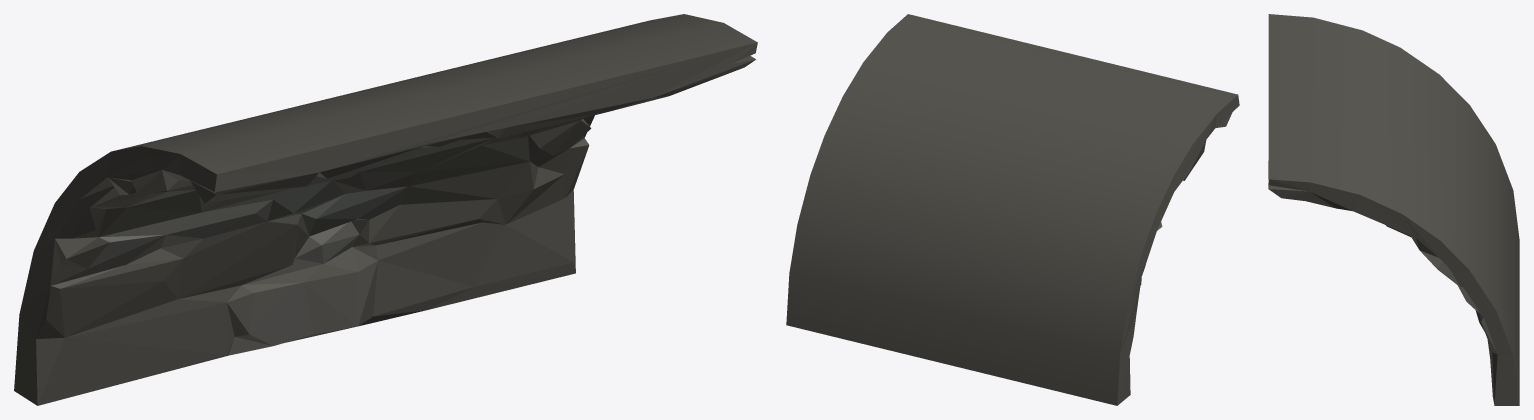
The model's file is MDungeon_CeilingArch_03.FBX.
The picture shows the model from 3 angles, left to right: view 1: azimuth 30°, elevation 25°; view 2: azimuth 150°, elevation 25°; view 3: azimuth 270°, elevation 25°; orthographic projection. The views are drawn at different scales.
Parts seen in each view (by area): view 1: MDungeon_CeilingArch_03_LOD0; view 2: MDungeon_CeilingArch_03_LOD0; view 3: MDungeon_CeilingArch_03_LOD0.
Part boxes in pixels (left/top/right/bottom): MDungeon_CeilingArch_03_LOD0: left=14, top=14, right=757, bottom=405; MDungeon_CeilingArch_03_LOD0: left=786, top=14, right=1239, bottom=405; MDungeon_CeilingArch_03_LOD0: left=1268, top=14, right=1519, bottom=405.
Size of what is drawn, in the model's own units: 6.01 by 3.83 by 3.84.
